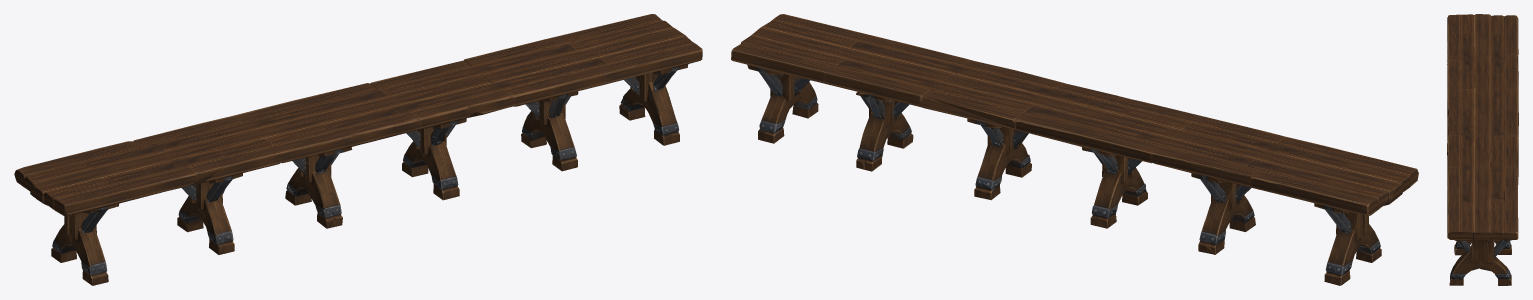
File: feast_table.glb
The picture shows the model from 3 angles, left to right: view 1: azimuth 30°, elevation 25°; view 2: azimuth 150°, elevation 25°; view 3: azimuth 270°, elevation 25°; orthographic projection. The views are drawn at different scales.
Parts seen in each view (by area): view 1: output_unwrapped; view 2: output_unwrapped; view 3: output_unwrapped.
Part boxes in pixels (<box>): output_unwrapped: <box>14,14,702,285</box>; output_unwrapped: <box>731,14,1418,285</box>; output_unwrapped: <box>1447,14,1518,285</box>.
Bounding box in the file's own units: 1.9 × 0.2614 × 0.2631.
Materials: 1 (1 with a texture image).
